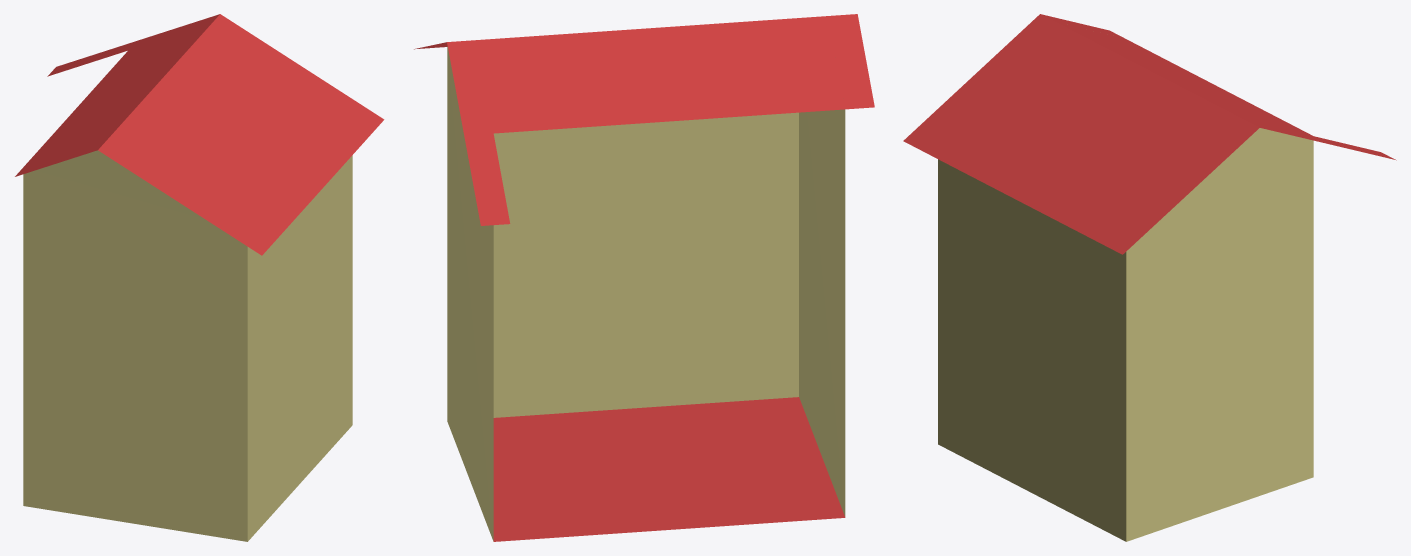
3 renders of one model, left to right at view 1: azimuth 30°, elevation 25°; view 2: azimuth 150°, elevation 25°; view 3: azimuth 270°, elevation 25°, orthographic. The views are drawn at different scales.
Bounding box in the file's own units: 8.8 × 9.92 × 8.46.
